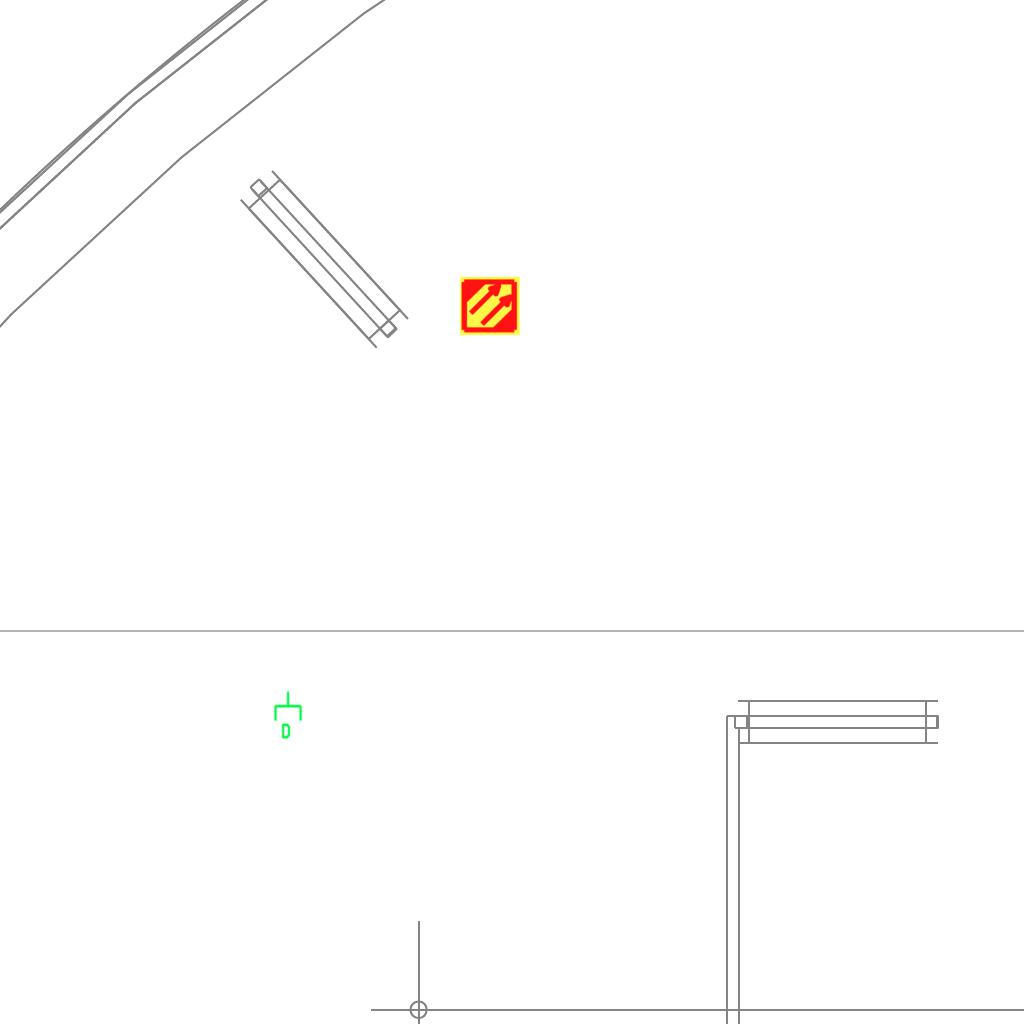ASR_Ansaugrauchmelder: (459, 275, 521, 337)
Datenanschluss_einfach: (272, 690, 306, 740)
